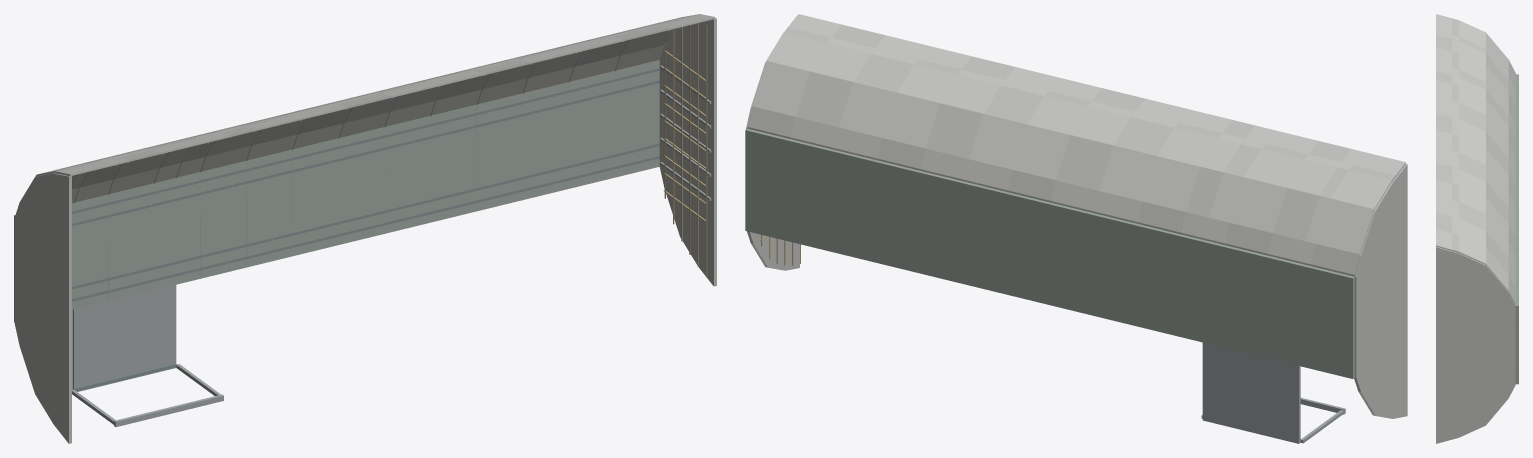
3 renders of one model, left to right at view 1: azimuth 30°, elevation 25°; view 2: azimuth 150°, elevation 25°; view 3: azimuth 270°, elevation 25°, orthographic. The views are drawn at different scales.
Visible parts, largest first — view 1: load_floor, bulkhead_0, bulkhead_7.7, entry_pocket_floor, flush_rail_-0.36, flush_rail_0.36, flush_rail_-0.5, flush_rail_0.5, door_header; view 2: load_floor, bulkhead_0, entry_pocket_floor, liner_1_0_1, liner_1_3_1, liner_1_9_1, liner_1_8_1, liner_1_12_1, liner_1_13_1, liner_1_6_1, liner_1_7_1, liner_1_10_1 (+47 smaller); view 3: bulkhead_7.7, load_floor, liner_1_15_2, liner_1_0_2, liner_1_3_2, liner_1_10_2, liner_1_14_2, liner_1_9_2, liner_1_11_2, liner_1_12_2, liner_1_13_2, liner_1_6_2 (+62 smaller).
Boxes of the visible parts, x1,y1,x2,y2 form: load_floor: (14, 60, 659, 322); bulkhead_0: (14, 173, 71, 443); bulkhead_7.7: (659, 18, 716, 286); entry_pocket_floor: (72, 285, 176, 391); flush_rail_-0.36: (72, 143, 659, 289); flush_rail_0.36: (72, 80, 659, 226); flush_rail_-0.5: (72, 156, 659, 301); flush_rail_0.5: (72, 68, 659, 213); door_header: (114, 394, 223, 426); load_floor: (745, 128, 1354, 378); bulkhead_0: (1354, 164, 1407, 418); entry_pocket_floor: (1202, 342, 1300, 443); liner_1_0_1: (1316, 198, 1374, 254); liner_1_3_1: (1229, 177, 1287, 233); liner_1_9_1: (1012, 124, 1070, 180); liner_1_8_1: (1056, 135, 1113, 190); liner_1_12_1: (882, 92, 939, 148); liner_1_13_1: (839, 82, 896, 137); liner_1_6_1: (1142, 156, 1200, 211); liner_1_7_1: (1099, 145, 1156, 201); liner_1_10_1: (969, 114, 1026, 169); bulkhead_7.7: (1436, 247, 1515, 443); load_floor: (1515, 74, 1518, 384); liner_1_15_2: (1459, 235, 1485, 264); liner_1_0_2: (1459, 20, 1485, 48); liner_1_3_2: (1459, 53, 1485, 81); liner_1_10_2: (1459, 152, 1485, 180); liner_1_14_2: (1459, 218, 1485, 246); liner_1_9_2: (1459, 136, 1485, 164); liner_1_11_2: (1459, 169, 1485, 197); liner_1_12_2: (1459, 185, 1485, 213); liner_1_13_2: (1459, 202, 1485, 230); liner_1_6_2: (1459, 86, 1485, 114).
Size of the model in its own units: 7.74 by 3.12 by 1.17.
